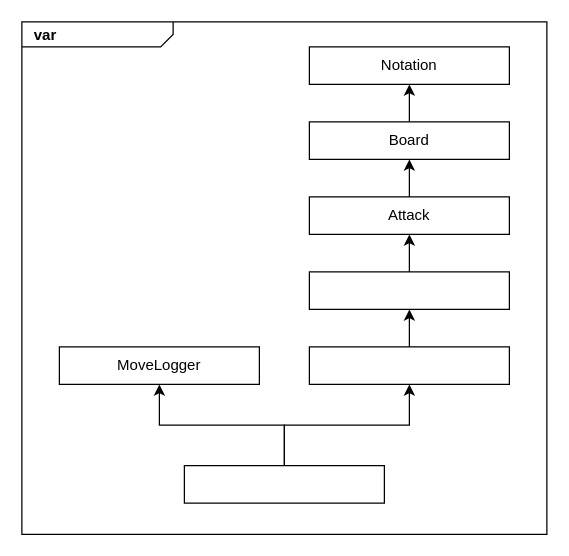
The diagram is 569 pixels wide and 556 high, and some of its shapes have lost their labels. The centre of each missing label's shape, as x and y in pixels:
"Move" goes at [408,290].
"Validation and Response" goes at [283,483].
"Validator" goes at [408,365].
